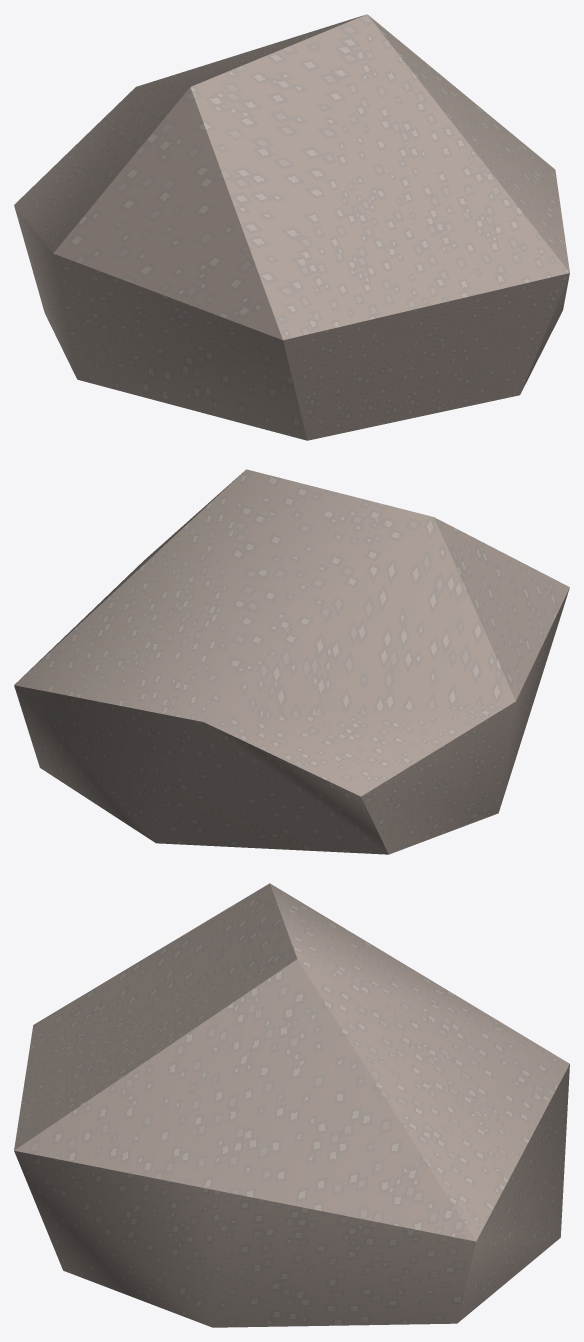
File: 03ab_Big_Rock.glb
The picture shows the model from 3 angles, top to bottom: view 1: azimuth 30°, elevation 25°; view 2: azimuth 150°, elevation 25°; view 3: azimuth 270°, elevation 25°; orthographic projection. The views are drawn at different scales.
Visible parts, largest first — view 1: part_0; view 2: part_0; view 3: part_0.
Boxes of the visible parts, x1=… form: part_0: x1=14, y1=14, x2=569, y2=440; part_0: x1=14, y1=469, x2=569, y2=854; part_0: x1=14, y1=883, x2=569, y2=1327.
Bounding box in the file's own units: 0.2209 × 0.1364 × 0.2324.
Materials: 1 (1 with a texture image).
